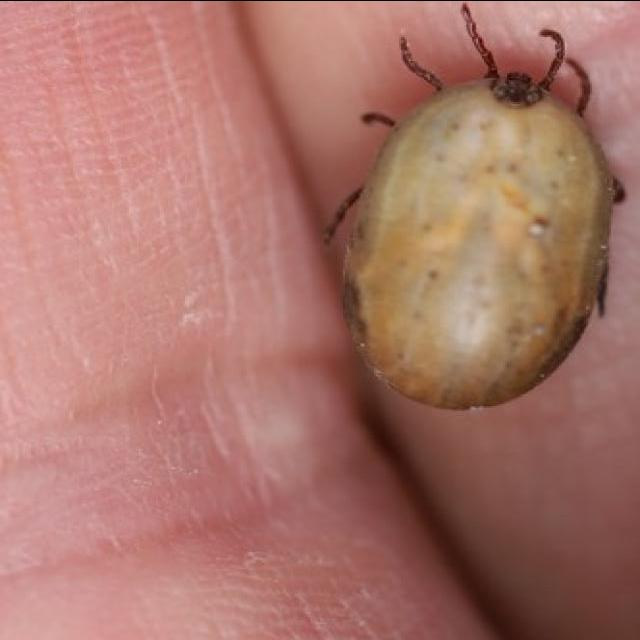Dermacentor Reticulatus-F-Fed: (324, 0, 627, 408)
